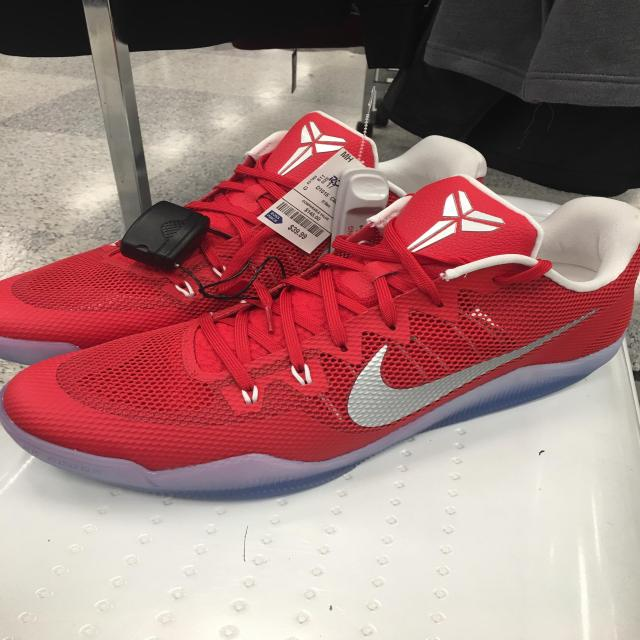shoe: (3, 166, 640, 502), (0, 108, 513, 365)
